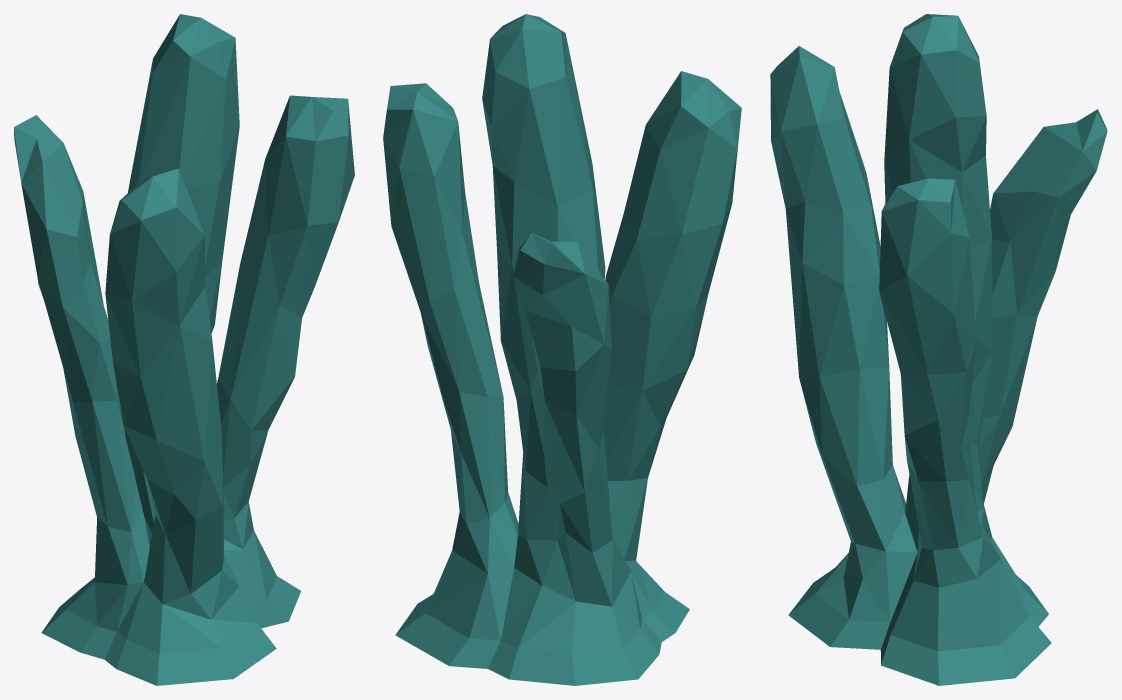
The model's file is SM_Coral_Sponge_Dead_B.fbx.
3 views of the same model, side by side, from view 1: azimuth 30°, elevation 25°; view 2: azimuth 150°, elevation 25°; view 3: azimuth 270°, elevation 25° (orthographic). The views are drawn at different scales.
Visible parts, largest first — view 1: coral-sponge-dead-b; view 2: coral-sponge-dead-b; view 3: coral-sponge-dead-b.
Part boxes in pixels (x1=…): coral-sponge-dead-b: x1=14, y1=14, x2=354, y2=685; coral-sponge-dead-b: x1=383, y1=14, x2=741, y2=685; coral-sponge-dead-b: x1=770, y1=14, x2=1107, y2=685.
Size of the model in its own units: 0.6541 by 1.29 by 0.6394.
